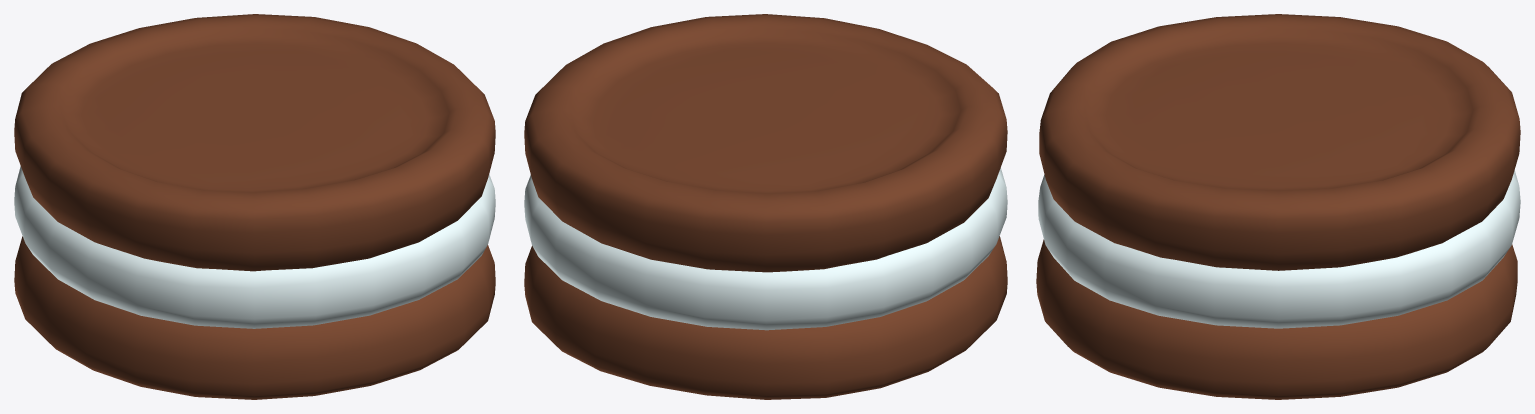
The model's file is Biscuit_01.fbx.
3 views of the same model, side by side, from view 1: azimuth 30°, elevation 25°; view 2: azimuth 150°, elevation 25°; view 3: azimuth 270°, elevation 25° (orthographic).
Visible parts, largest first — view 1: Biscuit_01_LOD0; view 2: Biscuit_01_LOD0; view 3: Biscuit_01_LOD0.
Boxes of the visible parts, box(x1,y1,x2,y2) form: Biscuit_01_LOD0: box(14, 14, 495, 399); Biscuit_01_LOD0: box(524, 14, 1007, 399); Biscuit_01_LOD0: box(1036, 14, 1520, 399).
Size of what is drawn, in the model's own units: 443 by 206 by 448.
